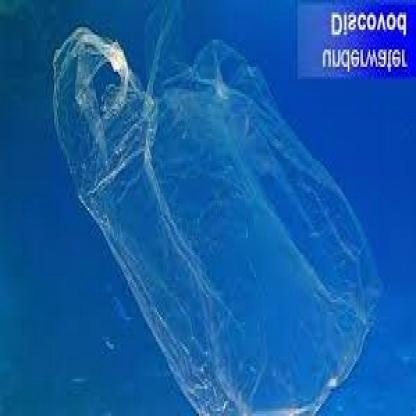pbag: (52, 7, 388, 416)
